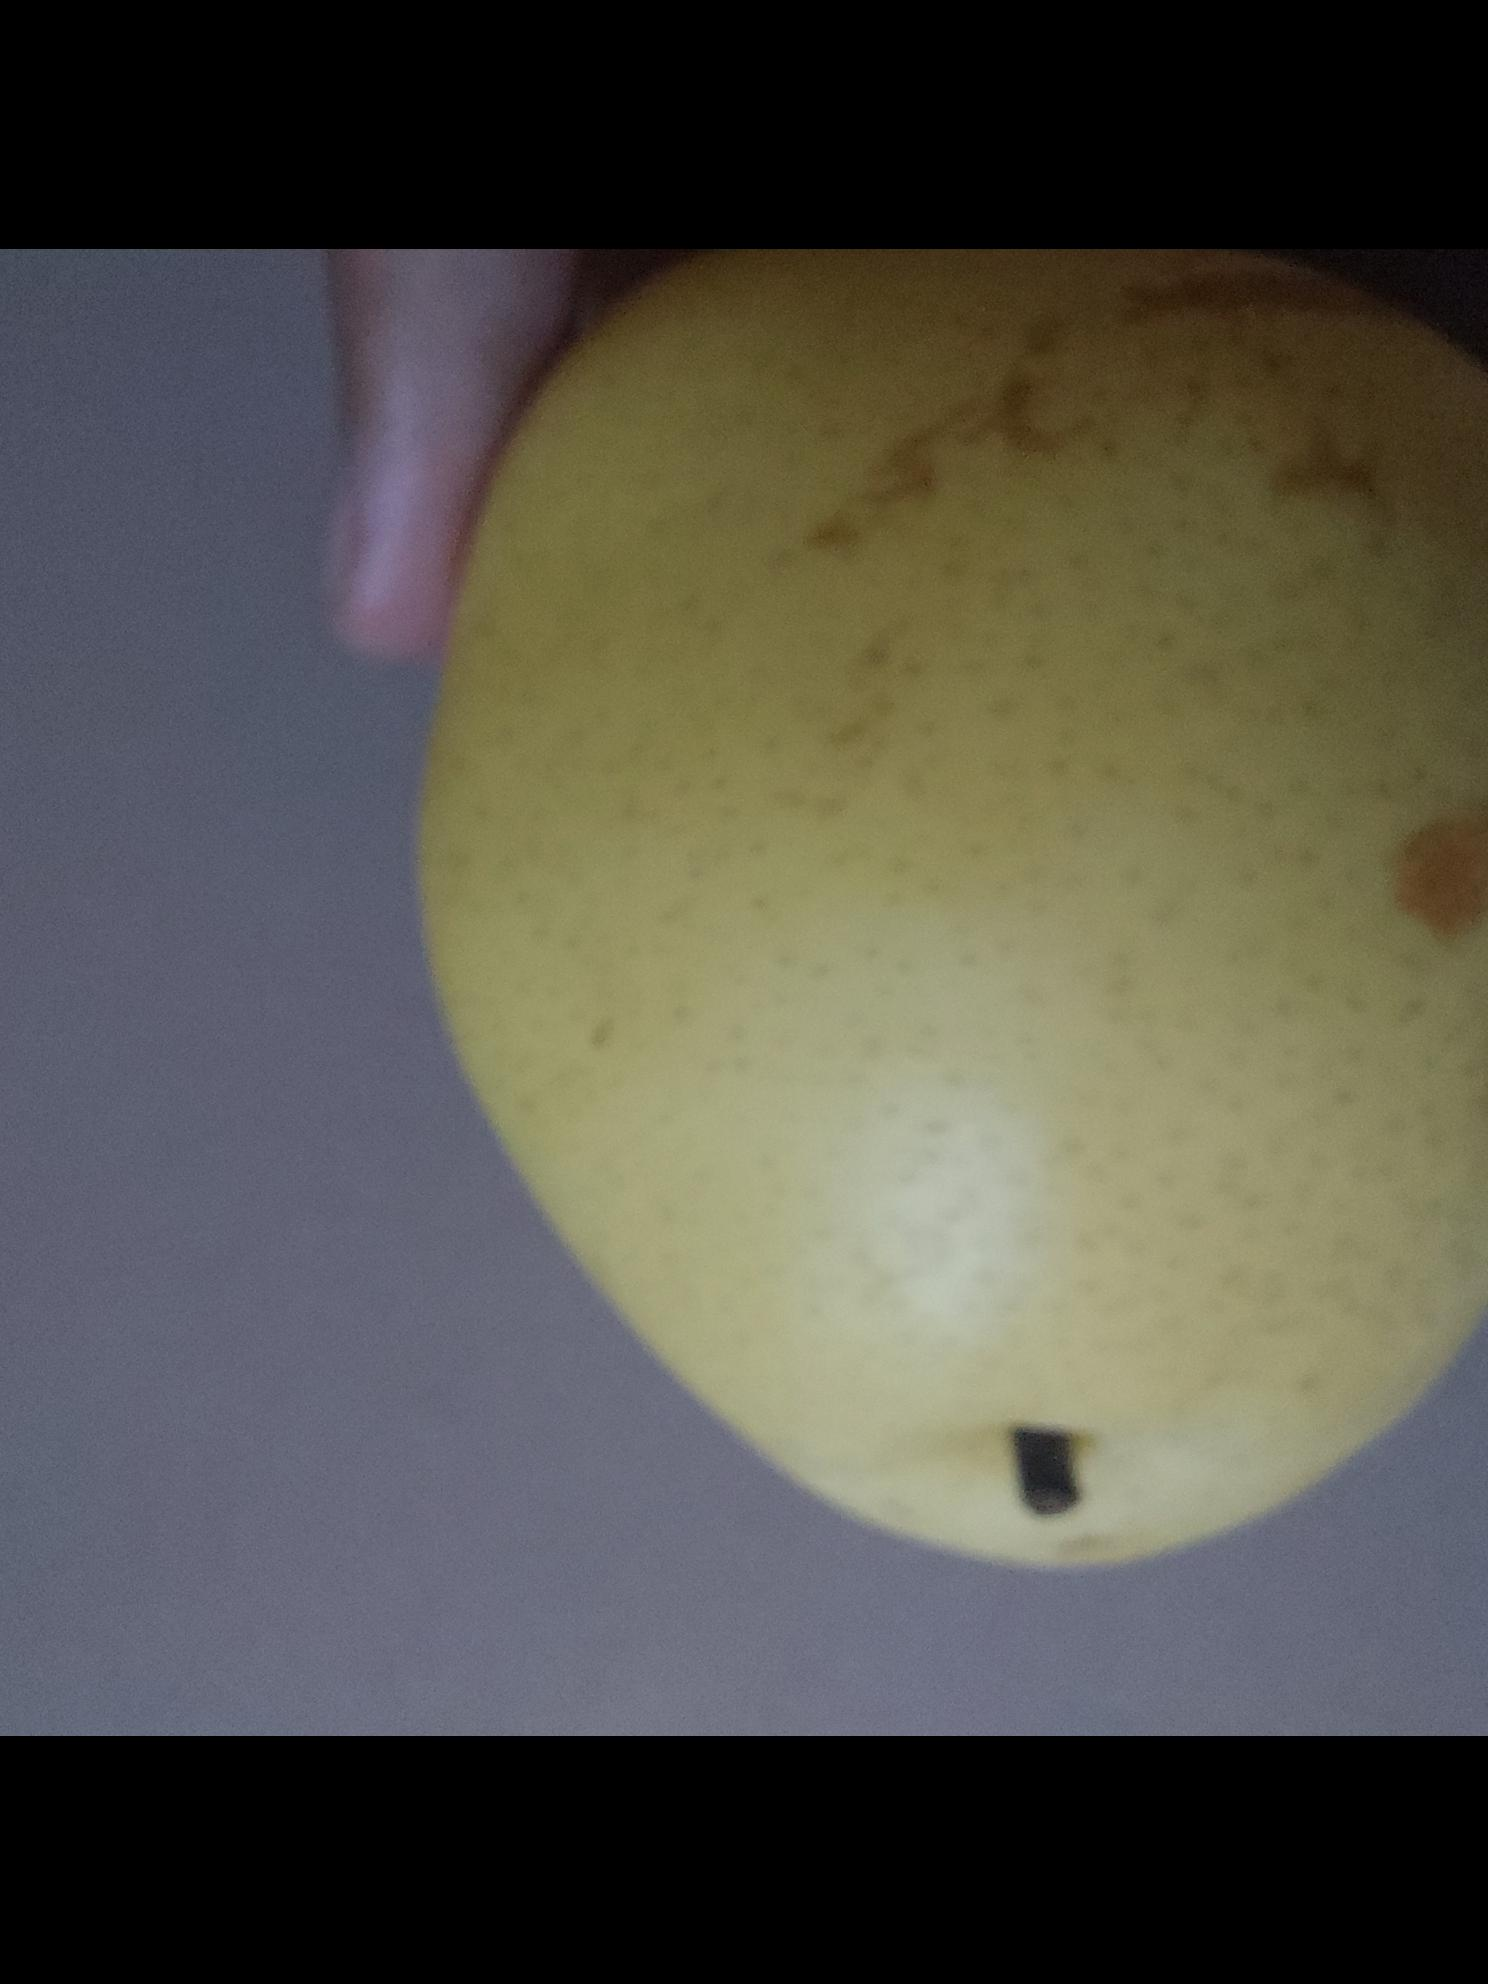Good Pear: (452, 259, 1488, 1586)
